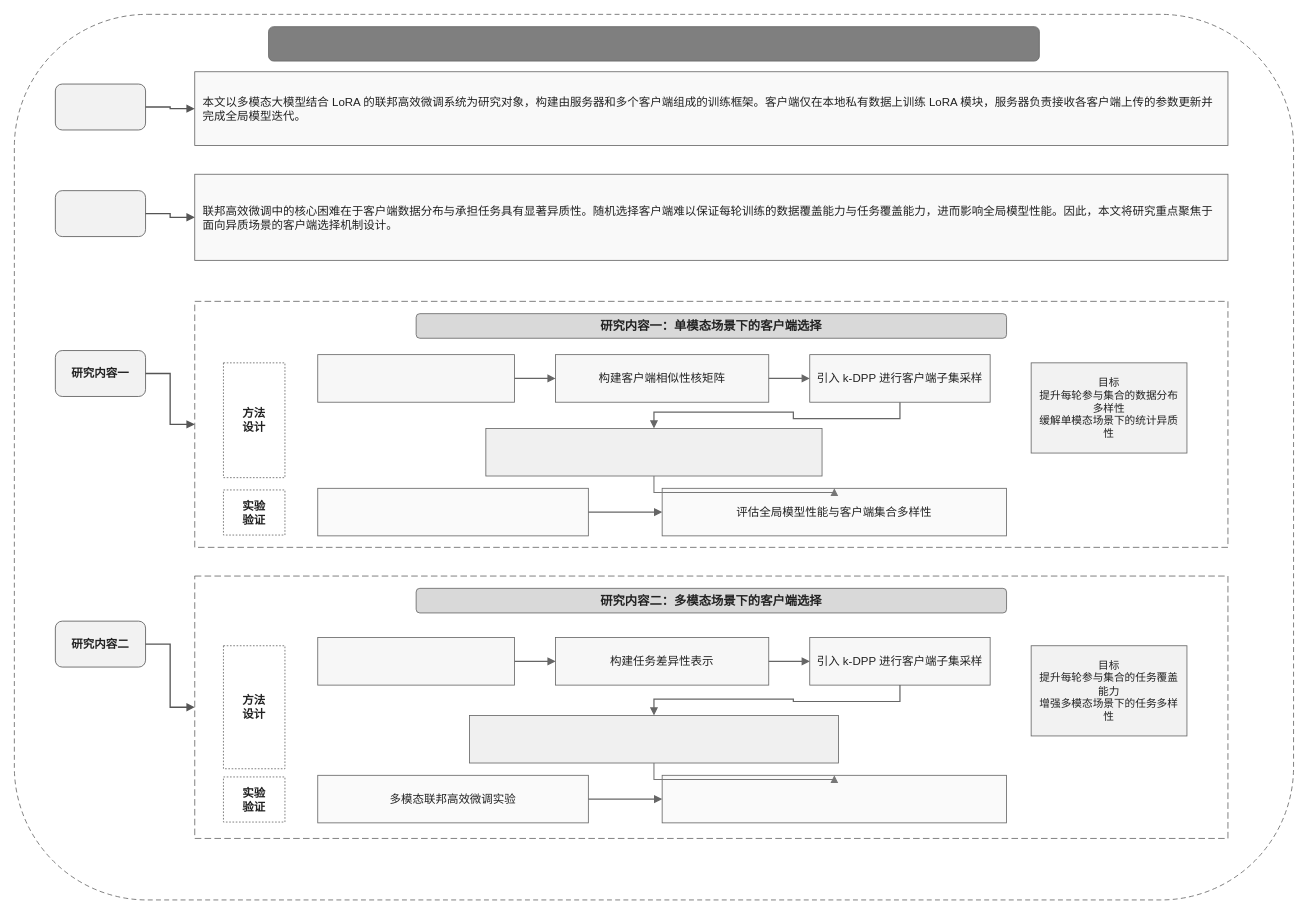
Some shapes in this 1308 by 914 pixel diagram are drawn without their labels. The centre of each missing label's shape, as x and y in pixels:
"单模态联邦高效微调实验" goes at point (452, 511).
"多模态客户端任务刻画" goes at point (416, 661).
"形成多样性驱动的客户端选择策略" goes at point (653, 452).
"形成面向多模态任务的客户端选择策略" goes at point (653, 739).
"本地数据表征提取" goes at point (416, 378).
"研究对象" goes at point (100, 106).
"研究问题" goes at point (100, 213).
"评估全局模型性能与任务覆盖能力" goes at point (834, 798).
"面向异质场景的联邦多模态大模型客户端选择技术路线" goes at point (653, 43).
